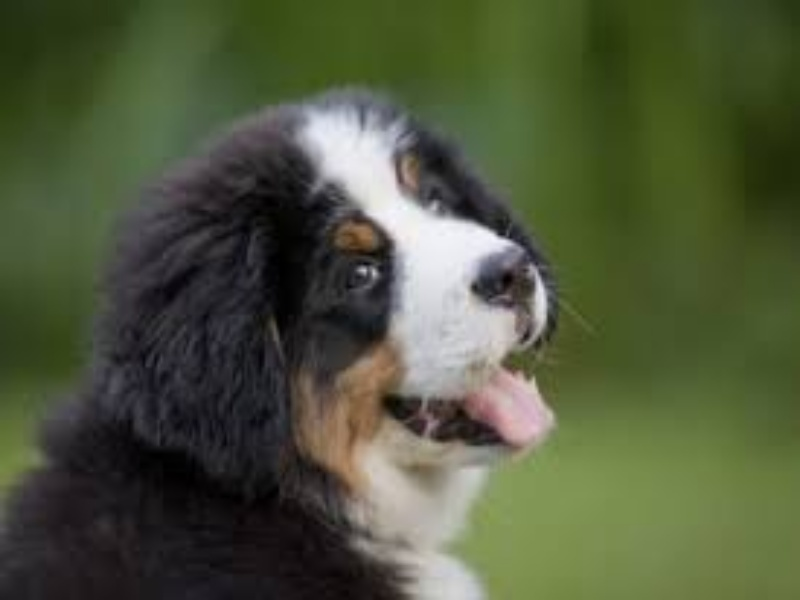dog: (2, 89, 571, 600)
